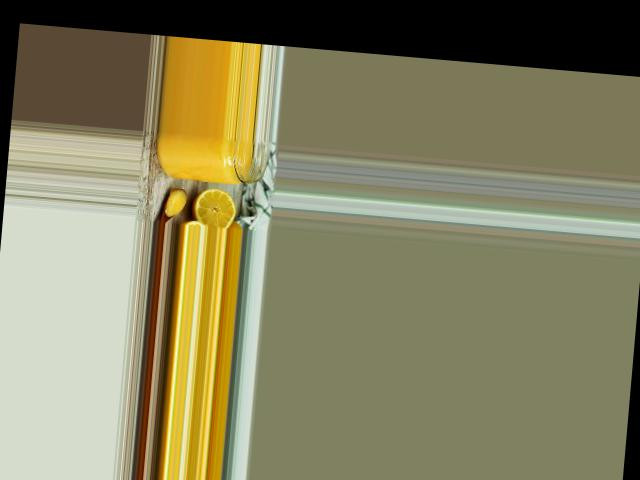lemon: (191, 187, 238, 227)
